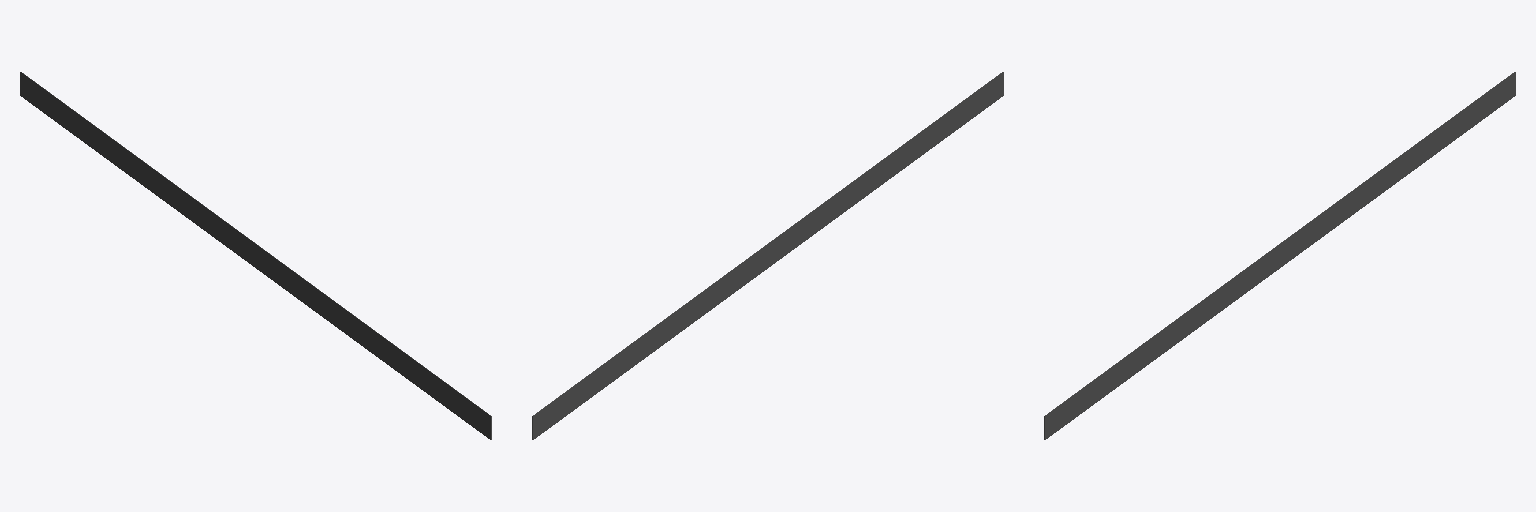
The robot description file, URDF, robot "counter_back#2":
<?xml version="1.0"?>
<robot name="counter_back#2">
    <material name="color">
        <color rgba="0.4 0.4 0.4 1"/>
    </material>
    <link name="base">
        <collision name="box_collision">
          <geometry>
            <box size="0.001 1.749 0.05"/>
          </geometry>
        </collision>
        <visual name="box_visual">
    			<origin xyz="0 0 0" rpy="0 0 0"/>
          <material name="color"/>

          <geometry>
            <box size="0.001 1.749 0.05"/>
          </geometry>
        </visual>
        <inertial>
			<mass value="0.3"/>
			<inertia ixx="0.6" ixy="0.0" ixz="0.0" iyy="0.5" iyz="-0.0" izz="0.08"/>
		</inertial>
      </link>
</robot>

--- Render facts (derived) ---
3 views of the same robot in one strip: view 1: azimuth 30°, elevation 25°; view 2: azimuth 150°, elevation 25°; view 3: azimuth 330°, elevation 25° (orthographic).
Model counter_back#2 with 1 links and 0 joints (none), rooted at base, posed all joints at 0.
Links seen in each view (by area): view 1: base; view 2: base; view 3: base.
Link boxes in pixels (<box>): base: <box>20,72,491,439</box>; base: <box>532,72,1003,439</box>; base: <box>1044,72,1515,439</box>.
Bounding box of the posed robot: 0.001 × 1.75 × 0.05 m (x, y, z).
Geometry: primitives only (box / cylinder / sphere), no mesh files.